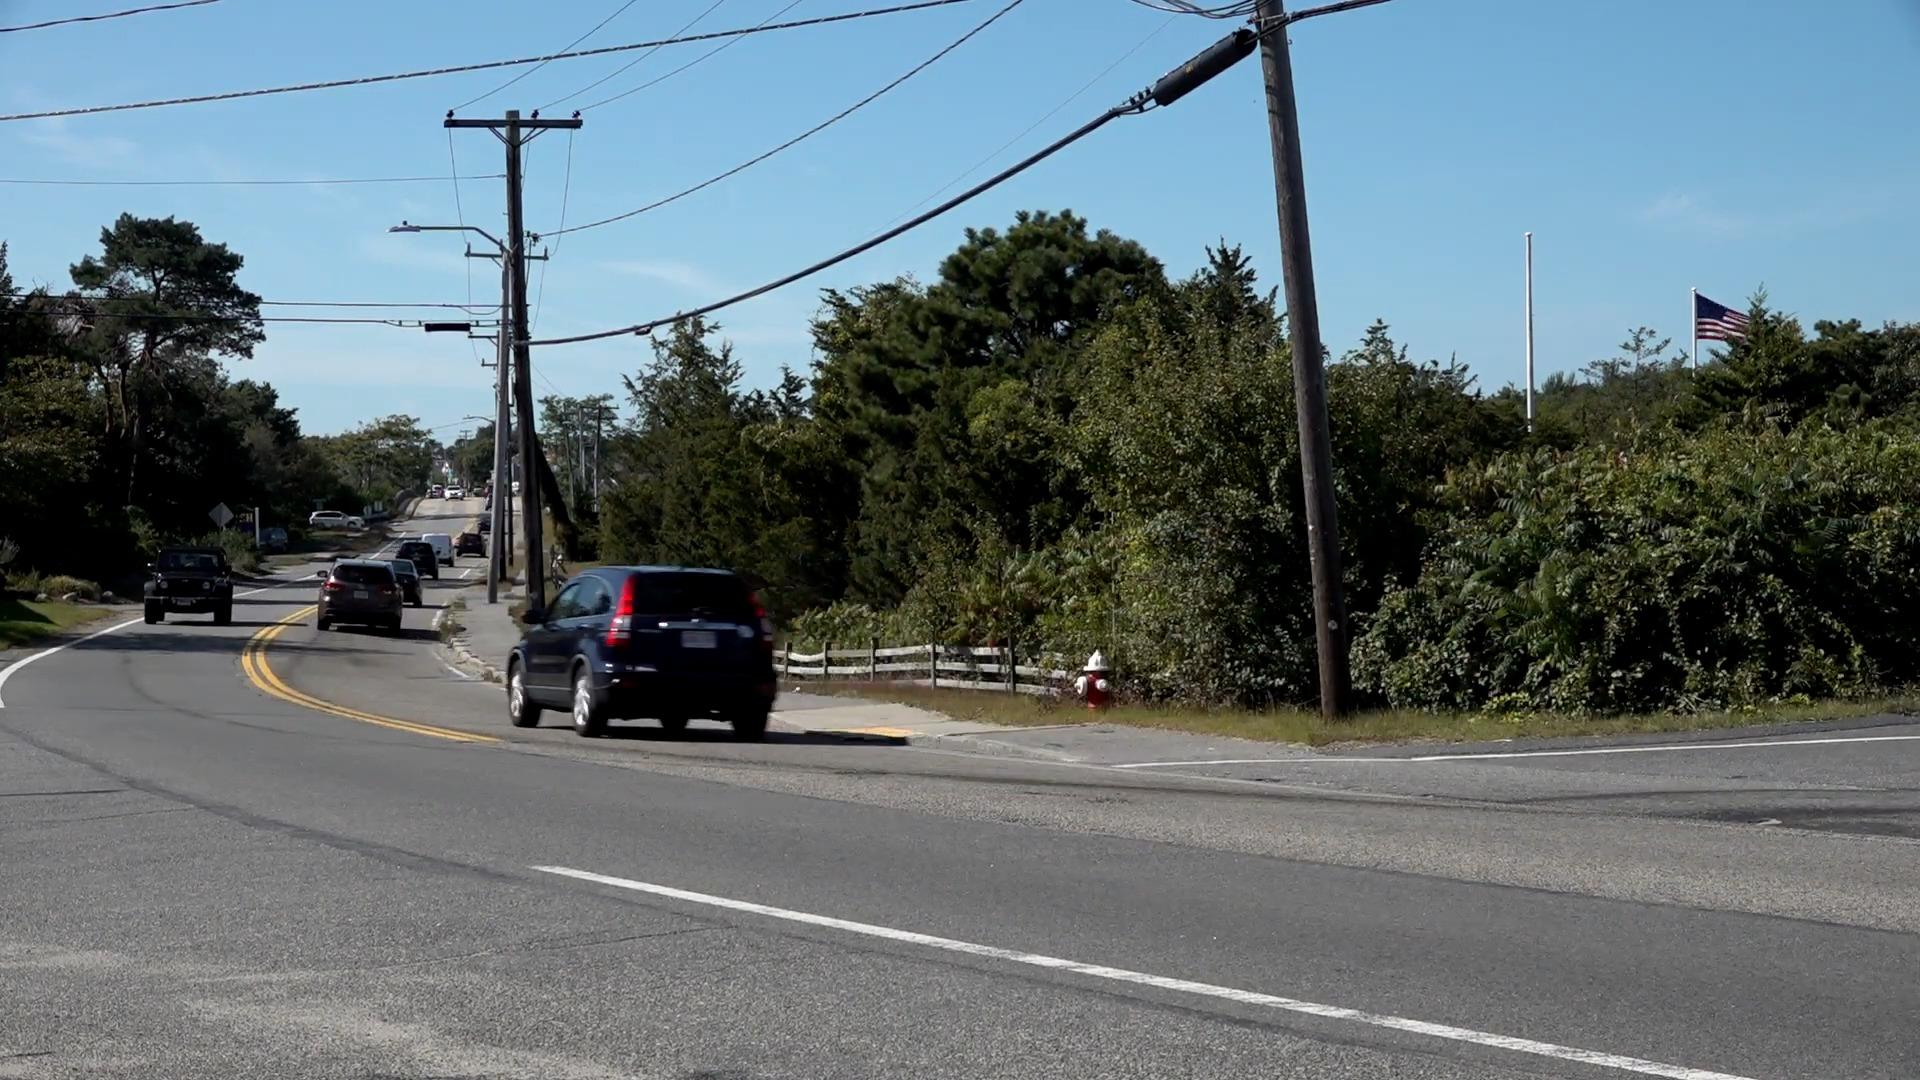suv: (509, 563, 781, 740), (141, 546, 237, 628), (316, 558, 407, 638)
